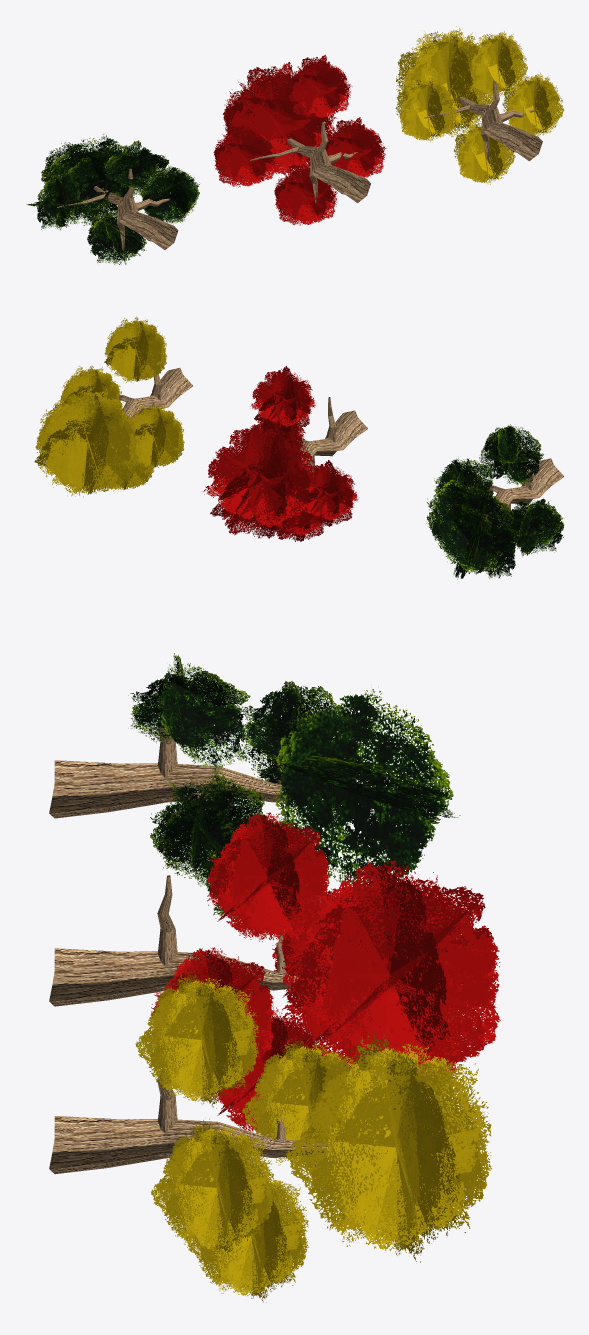
Rendered from trees.fbx.
3 views of the same model, one above another, from view 1: azimuth 30°, elevation 25°; view 2: azimuth 150°, elevation 25°; view 3: azimuth 270°, elevation 25° (orthographic). The views are drawn at different scales.
Parts seen in each view (by area): view 1: Arvore I.001, Plane.001, Arvore I; view 2: Plane.001, Arvore I.001, Arvore I; view 3: Plane.001, Arvore I.001, Arvore I.
Part boxes in pixels (<box>): Arvore I.001: <box>213,54,386,225</box>; Plane.001: <box>395,26,564,184</box>; Arvore I: <box>26,134,199,264</box>; Plane.001: <box>34,316,192,497</box>; Arvore I.001: <box>203,366,367,541</box>; Arvore I: <box>426,424,564,579</box>; Plane.001: <box>49,971,491,1302</box>; Arvore I.001: <box>49,812,500,1131</box>; Arvore I: <box>49,653,460,937</box>.
Bounding box in the file's own units: 5073 × 1689 × 2050.
